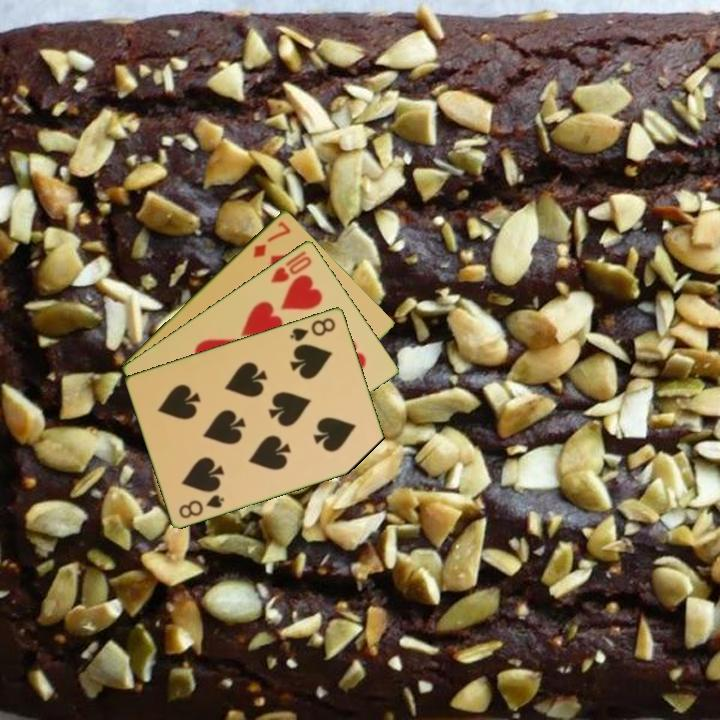10h: (267, 247, 314, 286)
7d: (250, 217, 294, 260)
8s: (287, 314, 338, 344), (176, 491, 227, 521)
